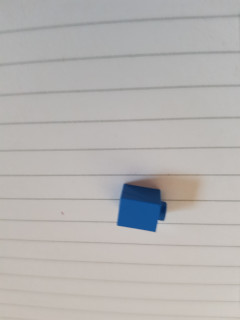1x1 blue: (115, 182, 169, 235)
